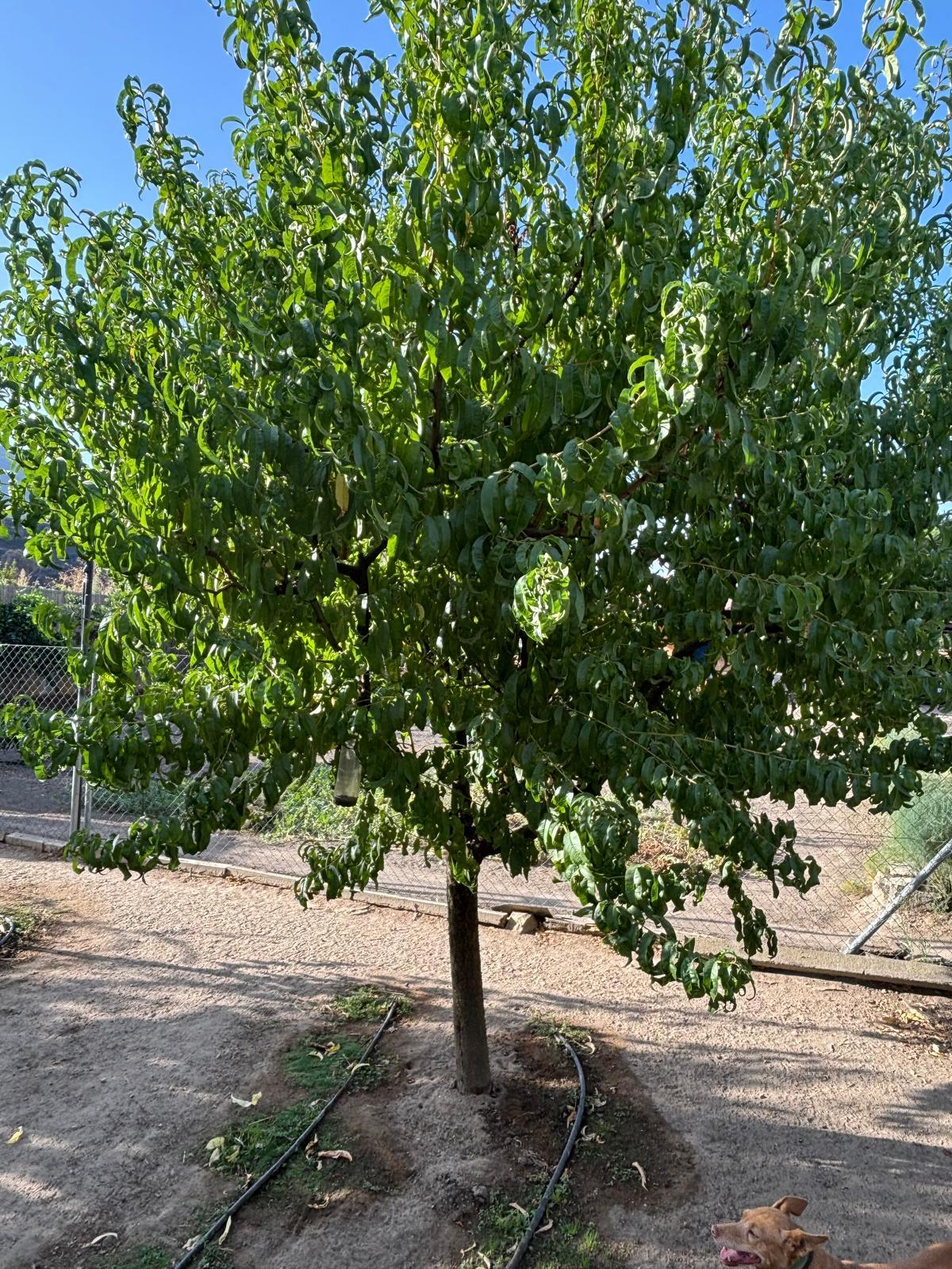nectarino: (140, 196, 912, 1117)
